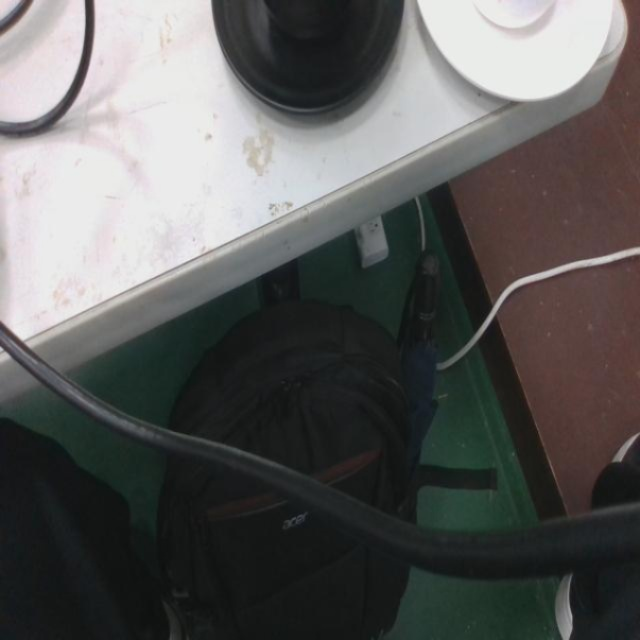black: (207, 0, 408, 124)
white: (413, 0, 616, 108)
